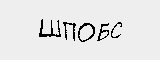Б: (96, 19, 112, 44)
О: (77, 21, 94, 44)
П: (64, 20, 76, 43)
С: (109, 20, 125, 41)
Ш: (37, 17, 62, 39)
